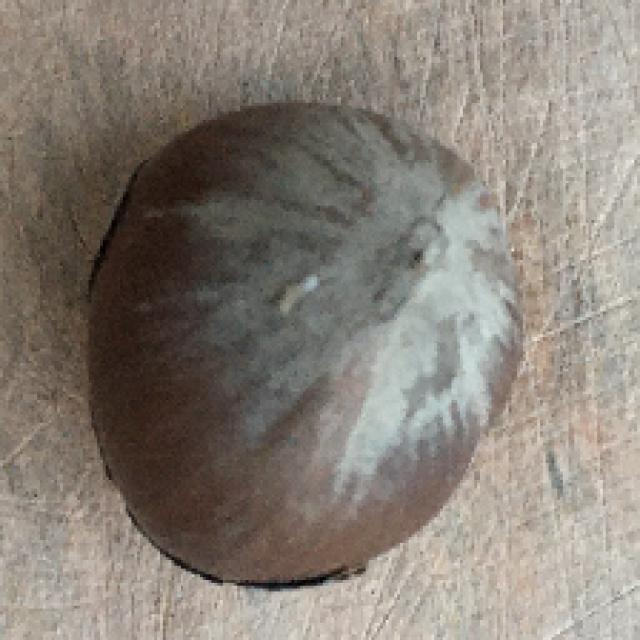damagedHazelnut: (86, 104, 526, 599)
